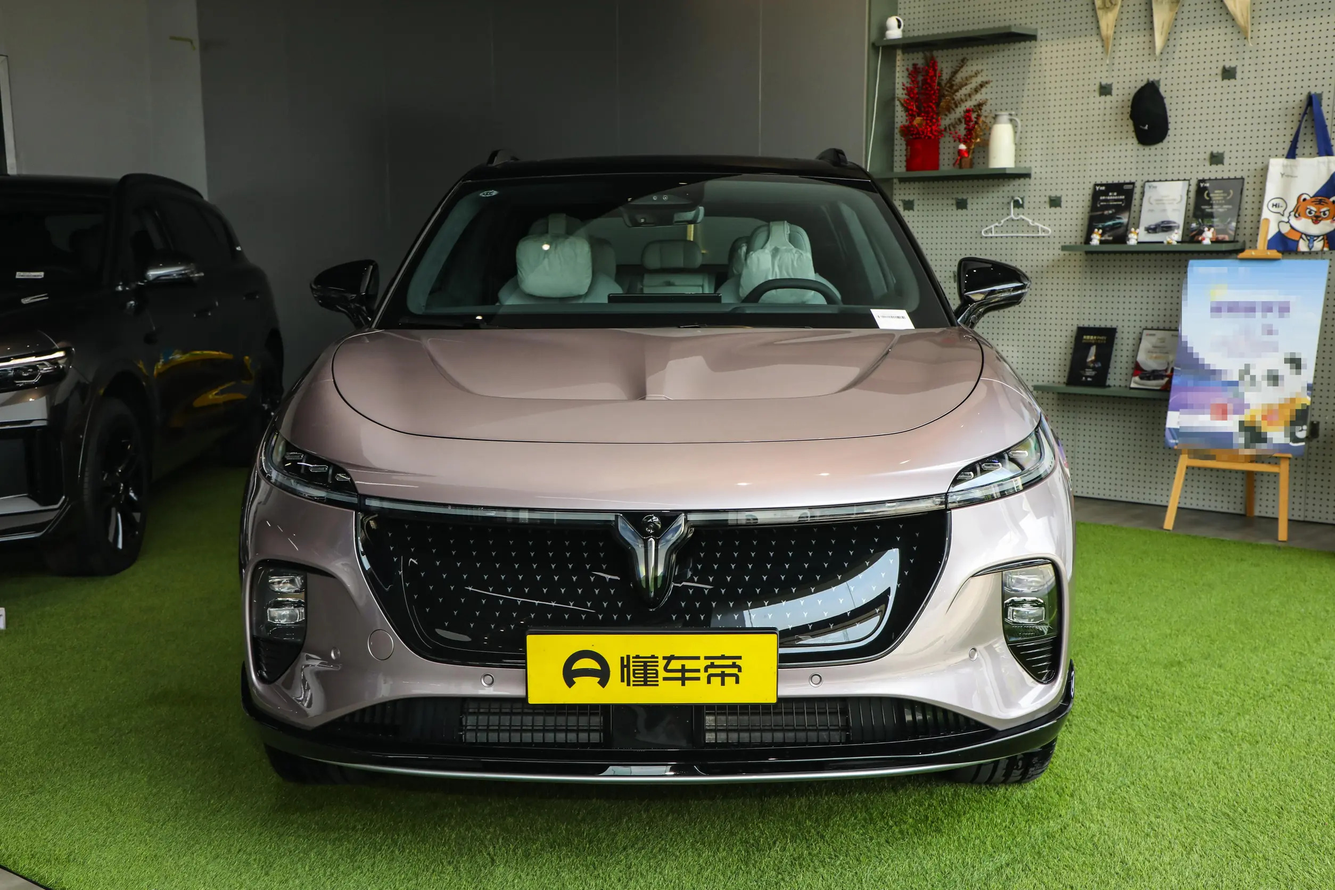VOYAH: (618, 514, 683, 598)
